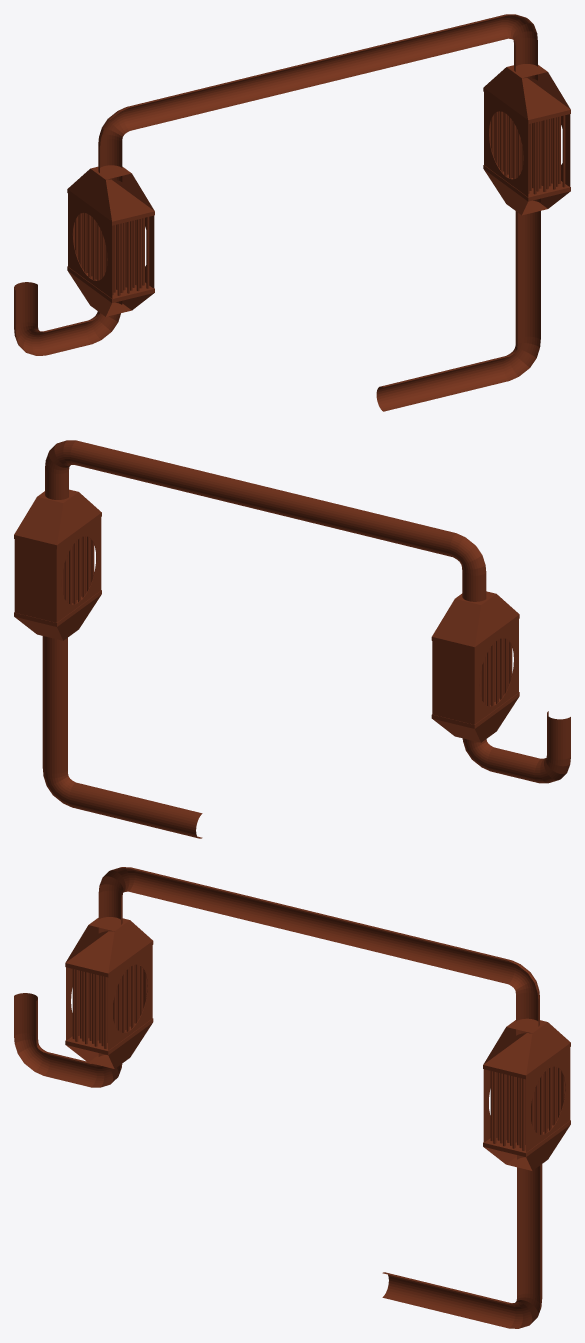
Rendered from Catalizator_Trube.fbx.
3 renders of one model, top to bottom at view 1: azimuth 30°, elevation 25°; view 2: azimuth 150°, elevation 25°; view 3: azimuth 330°, elevation 25°, orthographic.
Visible parts, largest first — view 1: Цилиндр.001, Cube.004, Cube.006, Цилиндр.004, Цилиндр.002; view 2: Цилиндр.001, Cube.006, Cube.004, Цилиндр.004, Цилиндр.002; view 3: Цилиндр.001, Cube.006, Cube.004, Цилиндр.004, Цилиндр.002.
Boxes of the visible parts, x1,y1,x2,y2 form: Цилиндр.001: [98, 14, 537, 181]; Cube.004: [67, 165, 154, 316]; Cube.006: [483, 64, 570, 215]; Цилиндр.004: [376, 198, 540, 411]; Цилиндр.002: [14, 282, 122, 355]; Цилиндр.001: [45, 440, 486, 601]; Cube.006: [14, 489, 101, 640]; Cube.004: [431, 591, 519, 742]; Цилиндр.004: [42, 636, 202, 838]; Цилиндр.002: [462, 711, 570, 783]; Цилиндр.001: [98, 867, 539, 1035]; Cube.006: [483, 1018, 570, 1170]; Cube.004: [65, 917, 153, 1068]; Цилиндр.004: [382, 1155, 542, 1328]; Цилиндр.002: [14, 993, 122, 1087].
Bounding box in the file's own units: 9962 × 6532 × 1448.
